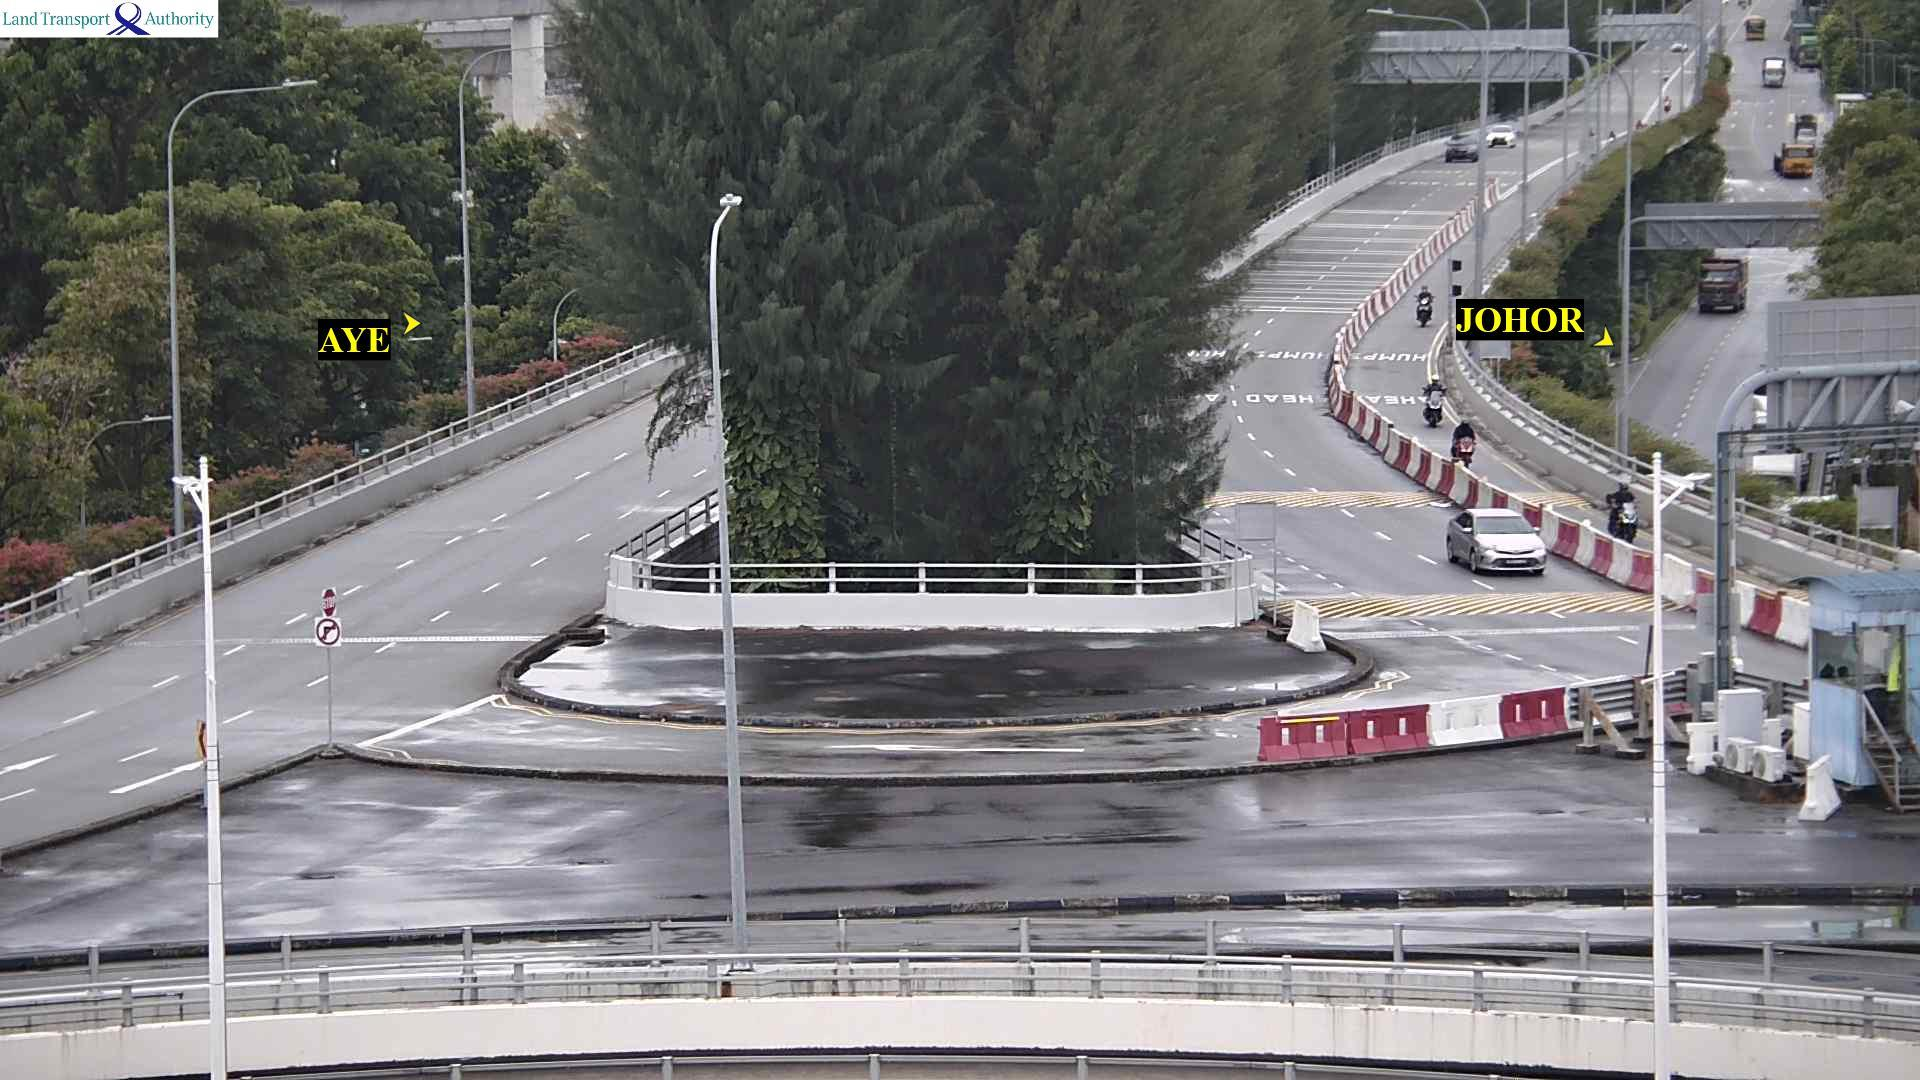vehicle-secondlink-johor: (1451, 508, 1552, 575), (1453, 419, 1486, 460), (1605, 487, 1636, 517), (1423, 376, 1441, 423), (1451, 136, 1476, 162), (1493, 127, 1515, 148), (1419, 287, 1431, 327)
